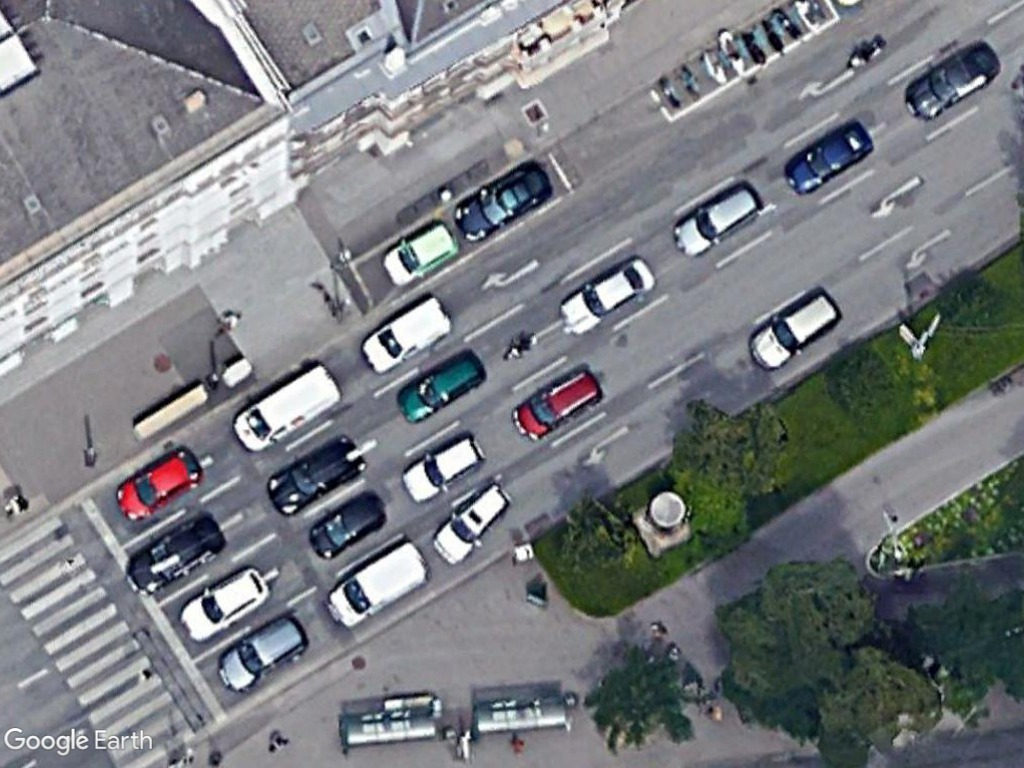car: (451, 150, 565, 249), (553, 248, 661, 338), (122, 508, 224, 601), (743, 284, 847, 375), (210, 608, 318, 694), (264, 432, 363, 524), (898, 40, 1002, 125), (175, 554, 271, 646), (426, 473, 512, 572), (781, 113, 879, 198), (109, 439, 205, 525), (670, 175, 762, 262), (508, 363, 604, 445), (395, 347, 489, 427), (302, 483, 388, 563), (398, 429, 482, 505), (378, 217, 461, 290)
van: (229, 354, 347, 458), (321, 537, 433, 633), (357, 290, 461, 376)
